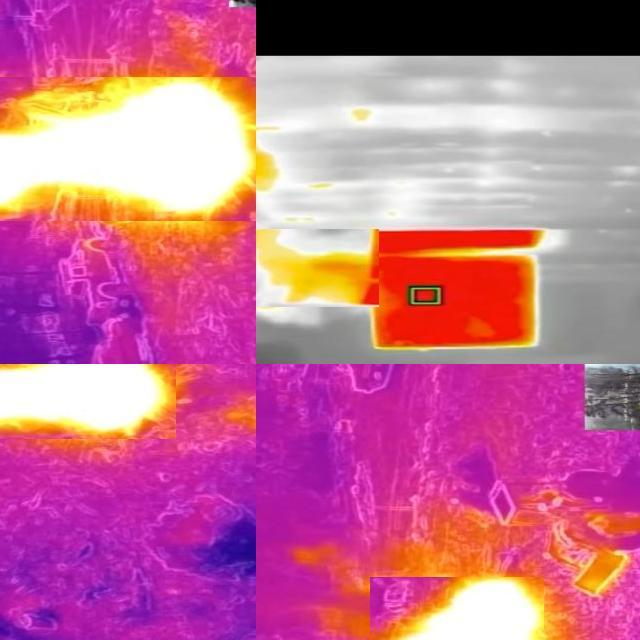fire: (1, 78, 257, 222), (1, 365, 176, 440), (370, 578, 544, 640), (257, 230, 379, 308)
